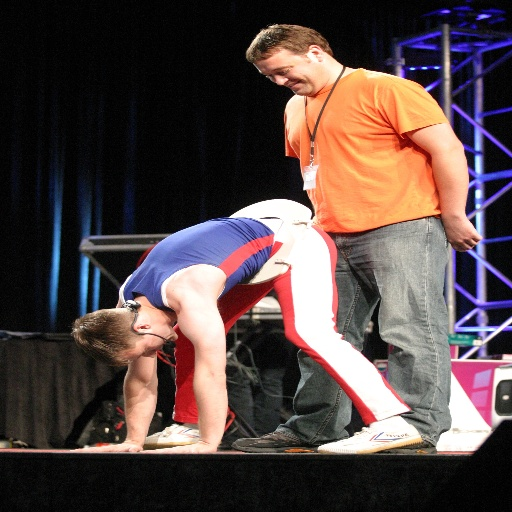hand: (449, 202, 488, 247), (64, 440, 143, 456), (138, 442, 219, 455)
